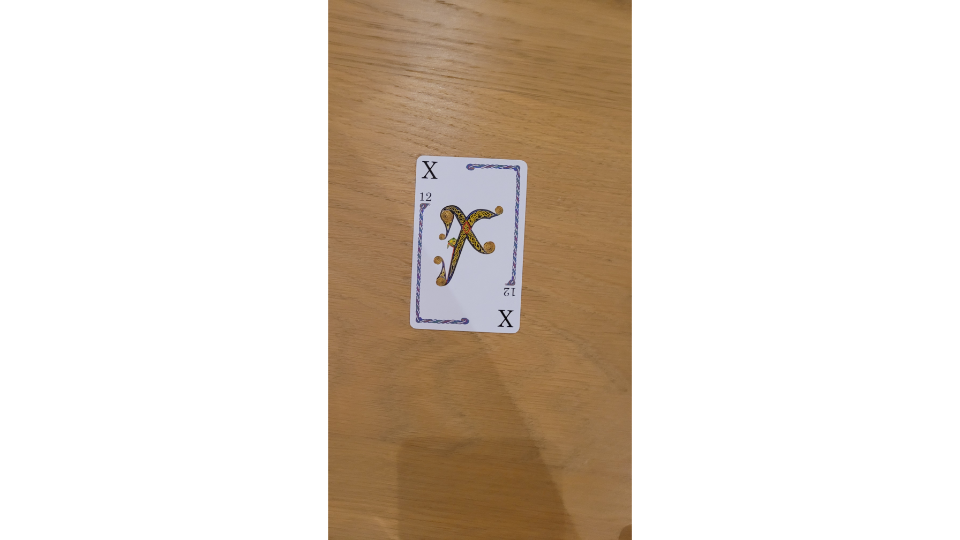X: (408, 153, 531, 337)
